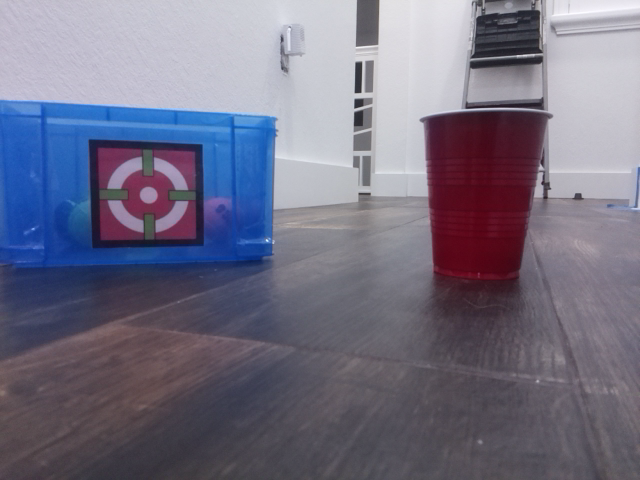drop-bin: (87, 138, 205, 248)
